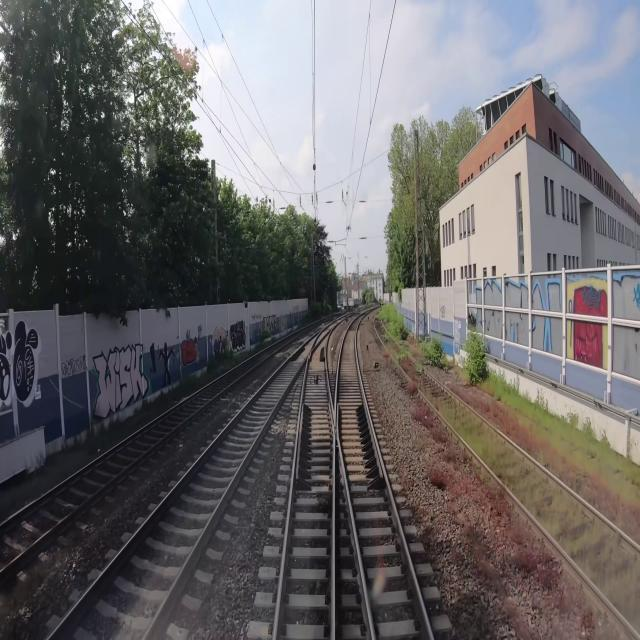Plant: (440, 395, 639, 639), (411, 401, 562, 589), (463, 523, 530, 639), (451, 590, 501, 639), (378, 304, 405, 345), (387, 341, 411, 363), (580, 604, 596, 635), (428, 463, 447, 488), (421, 349, 440, 368), (451, 545, 466, 566), (403, 379, 418, 396), (415, 361, 424, 374)
